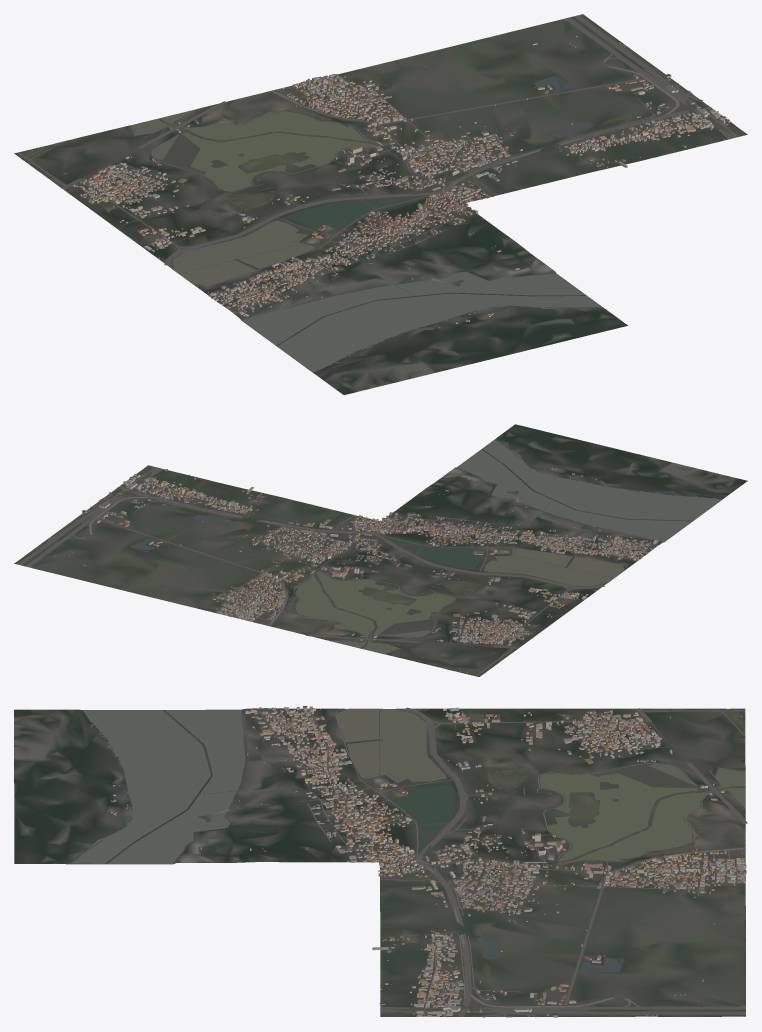
3 views of the same model, one above another, from view 1: azimuth 30°, elevation 25°; view 2: azimuth 150°, elevation 25°; view 3: azimuth 270°, elevation 25° (orthographic). The views are drawn at different scales.
Parts seen in each view (by area): view 1: ground, water, buildings, roads; view 2: ground, water, buildings, roads; view 3: ground, water, buildings, roads.
Boxes of the visible parts, x1=… form: ground: x1=14, y1=14, x2=747, y2=394; water: x1=32, y1=65, x2=635, y2=372; buildings: x1=31, y1=36, x2=729, y2=328; roads: x1=18, y1=15, x2=738, y2=313; ground: x1=14, y1=424, x2=747, y2=676; water: x1=129, y1=439, x2=721, y2=671; buildings: x1=48, y1=468, x2=658, y2=672; roads: x1=17, y1=467, x2=658, y2=676; ground: x1=14, y1=708, x2=745, y2=1016; water: x1=66, y1=708, x2=745, y2=983; buildings: x1=110, y1=706, x2=746, y2=1017; roads: x1=234, y1=707, x2=747, y2=1017.
Bounding box in the file's own units: 2816 × 34.55 × 2814.
